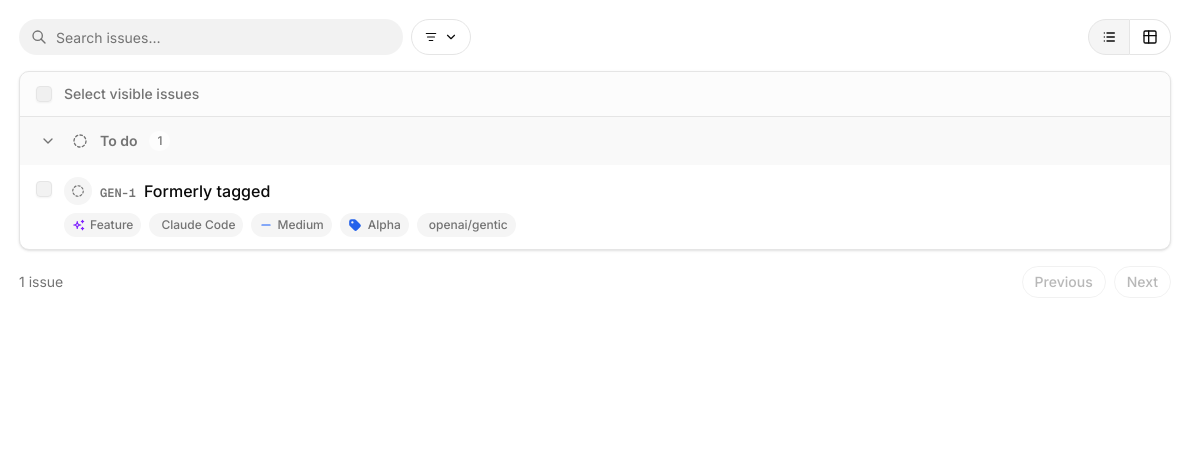
IssuesView Label discovery › drops an archived Label from chips, the filter list, and free-text matching
This screenshot has width=1188, height=456.
Click the button named "Filters".
click(441, 37)  # box [411,19,471,55]
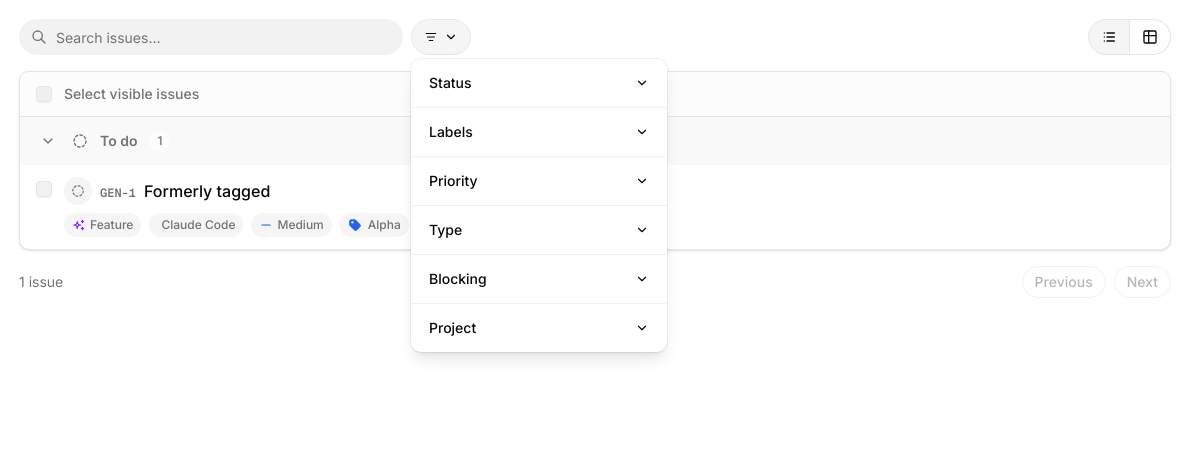
Click the menu item "Labels".
click(451, 132)  # box [429,123,649,140]
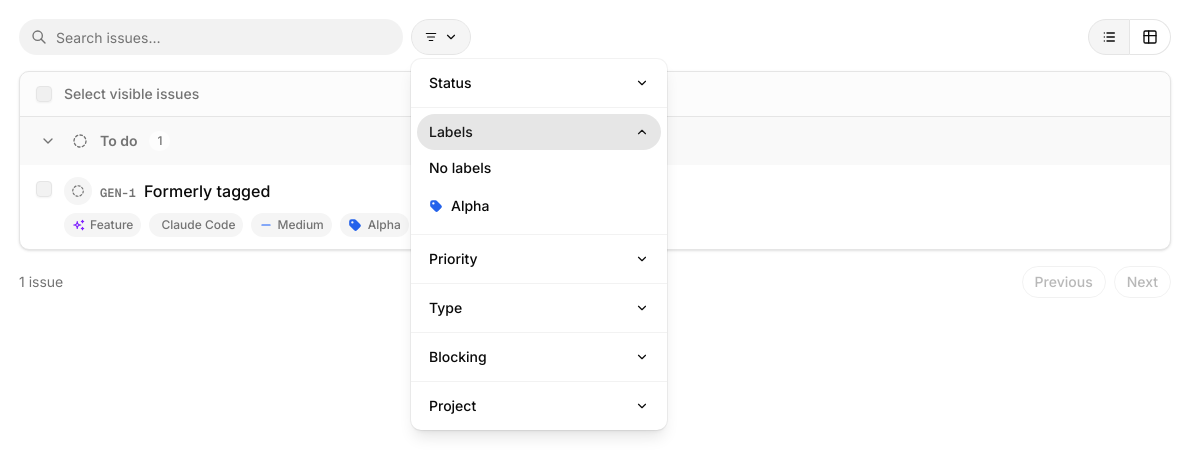
Check: the element "Retired" is not shown
Check: the menu item "Alpha" is shown, box [429,197,490,214]
Press Escape
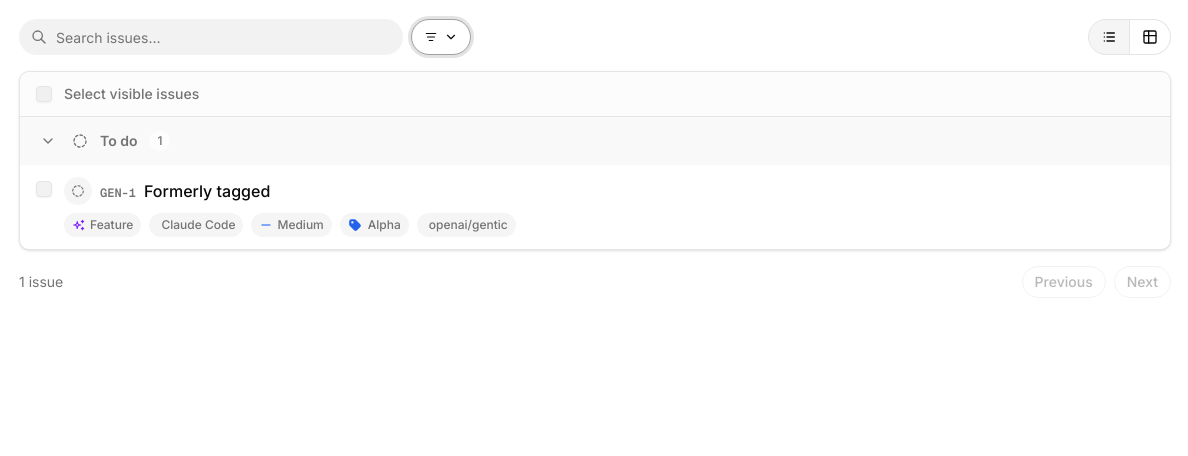
Type "Retired" into the field with placeholder "Search issues…".
click(211, 37); type("Retired")  # box [19,19,403,55]
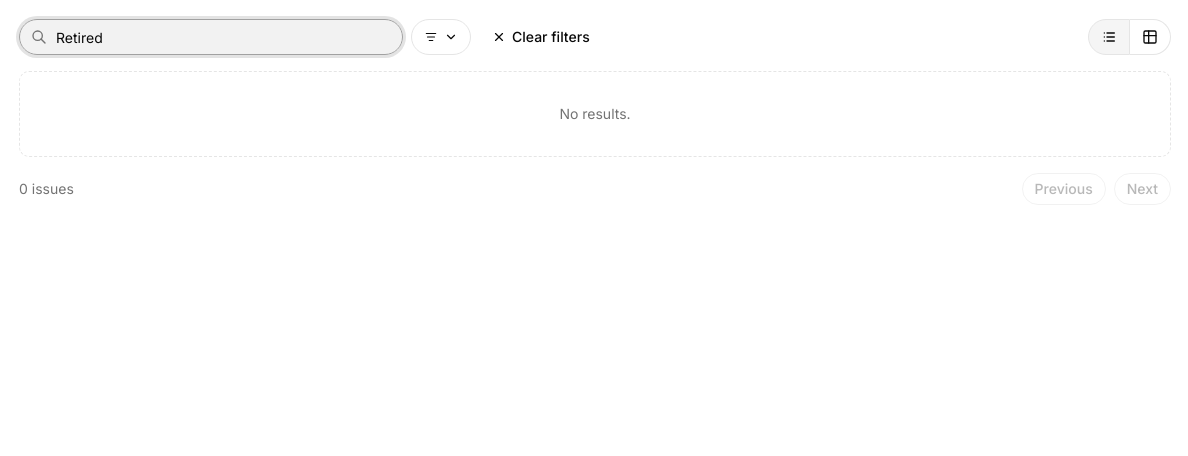
Check: the link "Formerly tagged" is gone
